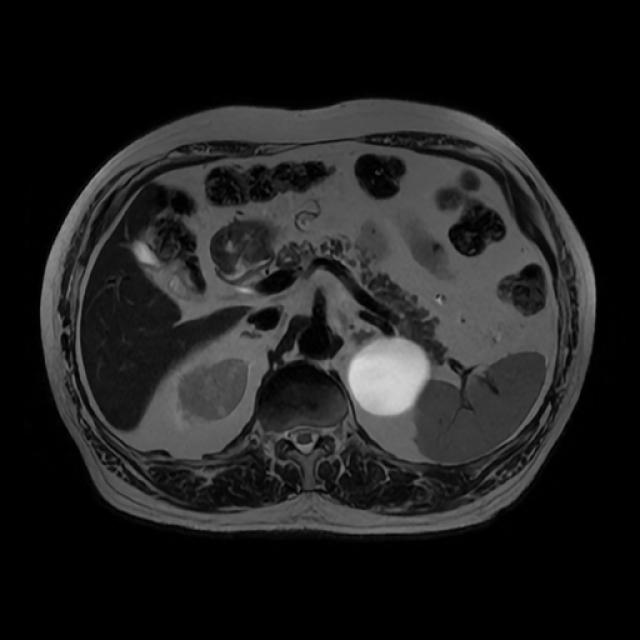sag: (178, 356, 252, 427)
sol: (347, 335, 430, 415)
